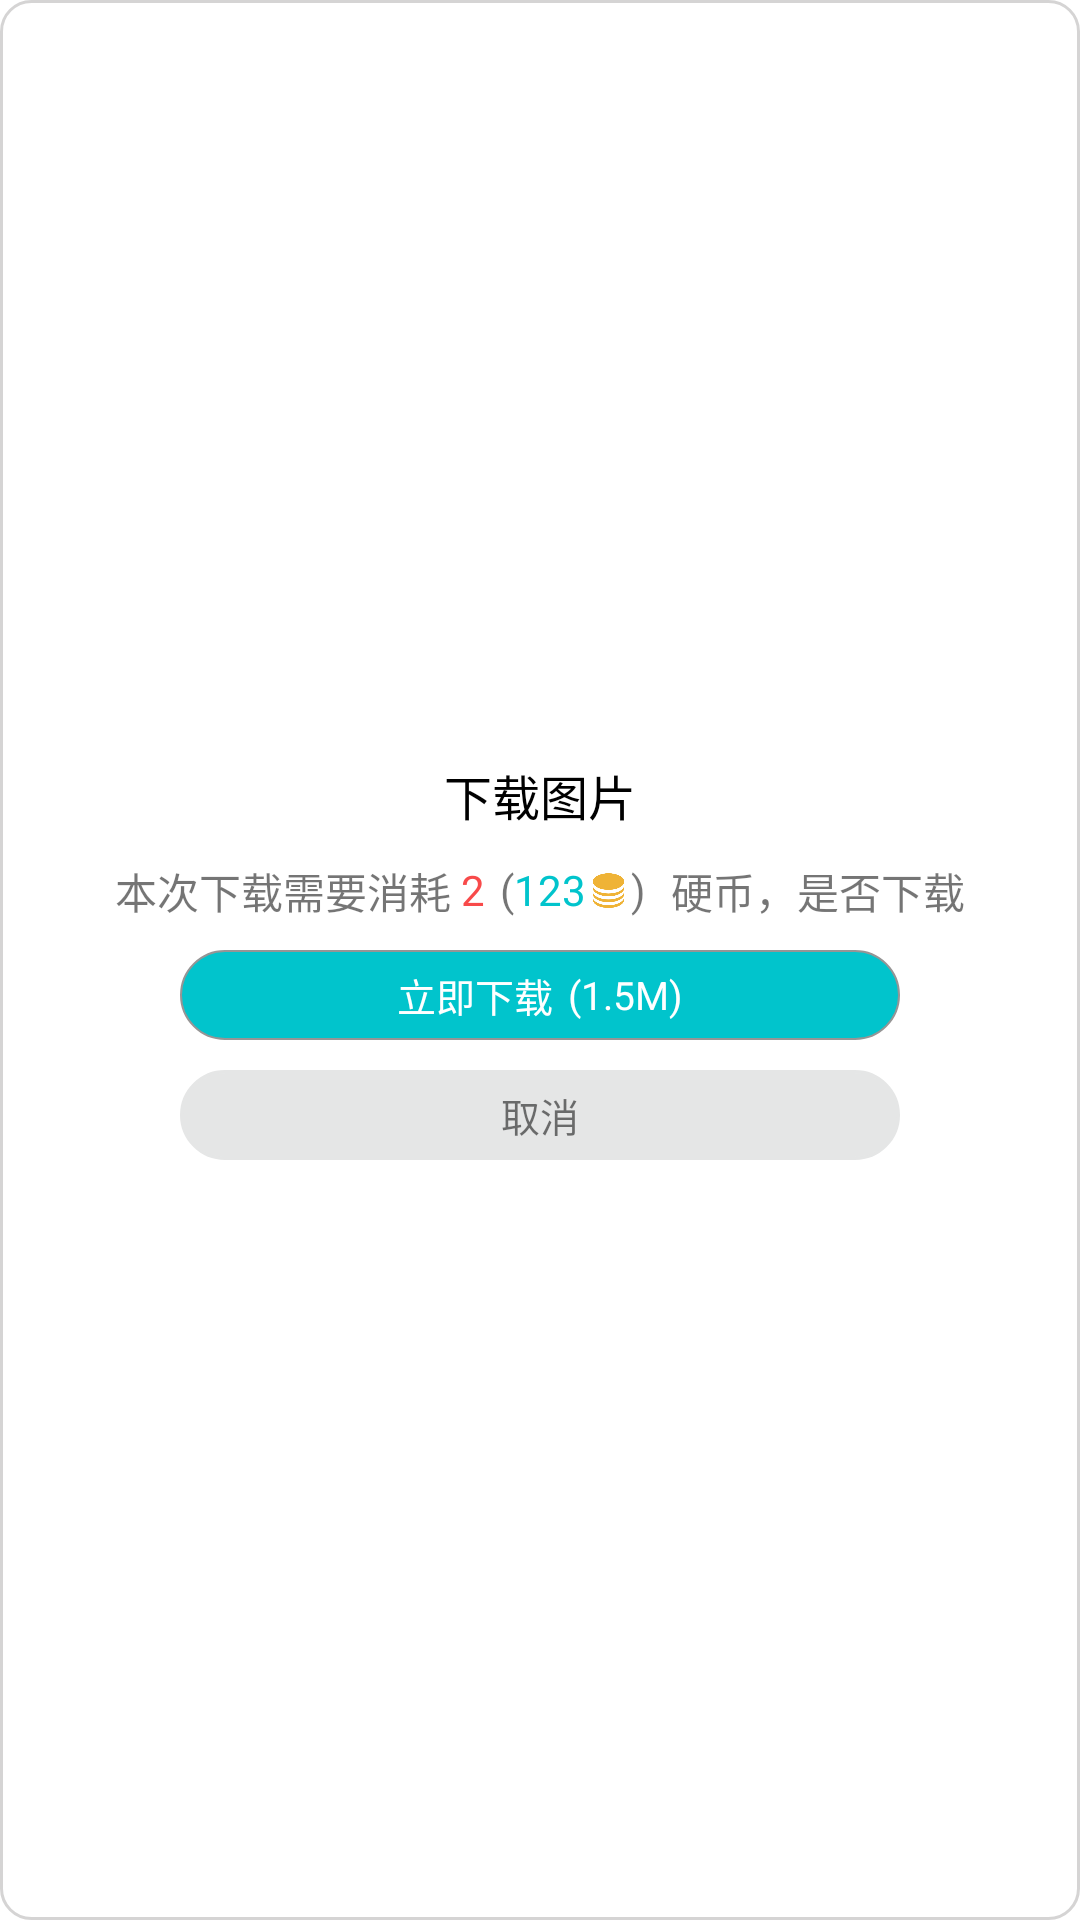

Named icons in this screenshot (1080px x 1920px) and their bounding boxes, (x1, y1, x2, y2):
money: (593, 873, 624, 908)
